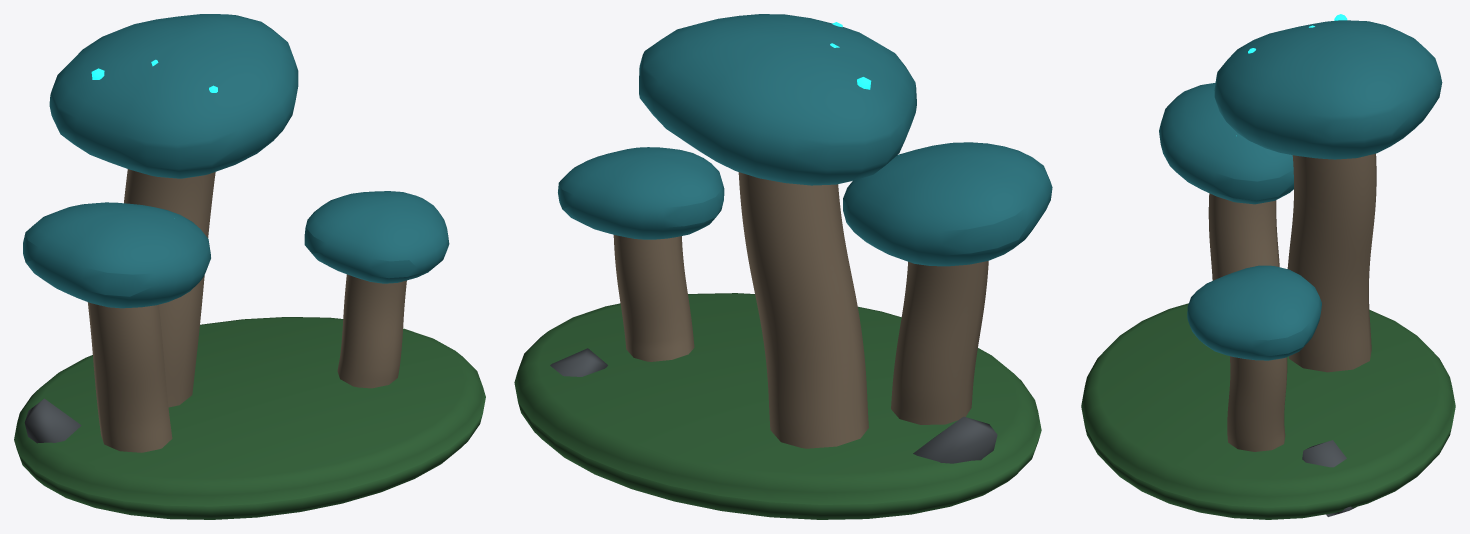
The model's file is magical-mushroom.glb.
The picture shows the model from 3 angles, left to right: view 1: azimuth 30°, elevation 25°; view 2: azimuth 150°, elevation 25°; view 3: azimuth 270°, elevation 25°; orthographic projection. The views are drawn at different scales.
Parts seen in each view (by area): view 1: Moss_Base, Cap_Tall, Cap_Left, Cap_Small, Stem_Left, Stem_Tall, Stem_Small, Rock_01; view 2: Moss_Base, Cap_Tall, Stem_Tall, Cap_Left, Stem_Left, Cap_Small, Stem_Small, Rock_01, Rock_02; view 3: Moss_Base, Cap_Tall, Stem_Tall, Cap_Small, Cap_Left, Stem_Small, Stem_Left, Rock_02.
Part boxes in pixels (left/top/right/bottom): Moss_Base: left=14, top=317, right=485, bottom=519; Cap_Tall: left=49, top=14, right=298, bottom=178; Cap_Left: left=23, top=202, right=210, bottom=308; Cap_Small: left=304, top=191, right=449, bottom=283; Stem_Left: left=87, top=302, right=172, bottom=452; Stem_Tall: left=124, top=169, right=215, bottom=407; Stem_Small: left=337, top=274, right=406, bottom=388; Rock_01: left=24, top=398, right=81, bottom=443; Moss_Base: left=514, top=293, right=1041, bottom=519; Cap_Tall: left=639, top=14, right=916, bottom=185; Stem_Tall: left=738, top=172, right=868, bottom=448; Cap_Left: left=843, top=142, right=1052, bottom=266; Stem_Left: left=891, top=261, right=988, bottom=424; Cap_Small: left=558, top=147, right=724, bottom=239; Stem_Small: left=613, top=235, right=694, bottom=361; Rock_01: left=913, top=416, right=997, bottom=463; Rock_02: left=550, top=348, right=607, bottom=376; Moss_Base: left=1081, top=303, right=1455, bottom=519; Cap_Tall: left=1214, top=20, right=1442, bottom=159; Stem_Tall: left=1287, top=153, right=1376, bottom=372; Cap_Small: left=1187, top=265, right=1321, bottom=360; Cap_Left: left=1159, top=82, right=1293, bottom=204; Stem_Small: left=1227, top=356, right=1287, bottom=451; Stem_Left: left=1208, top=193, right=1279, bottom=280; Rock_02: left=1302, top=440, right=1356, bottom=516.
Size of the model in its own units: 0.6289 by 0.5521 by 0.4836.
